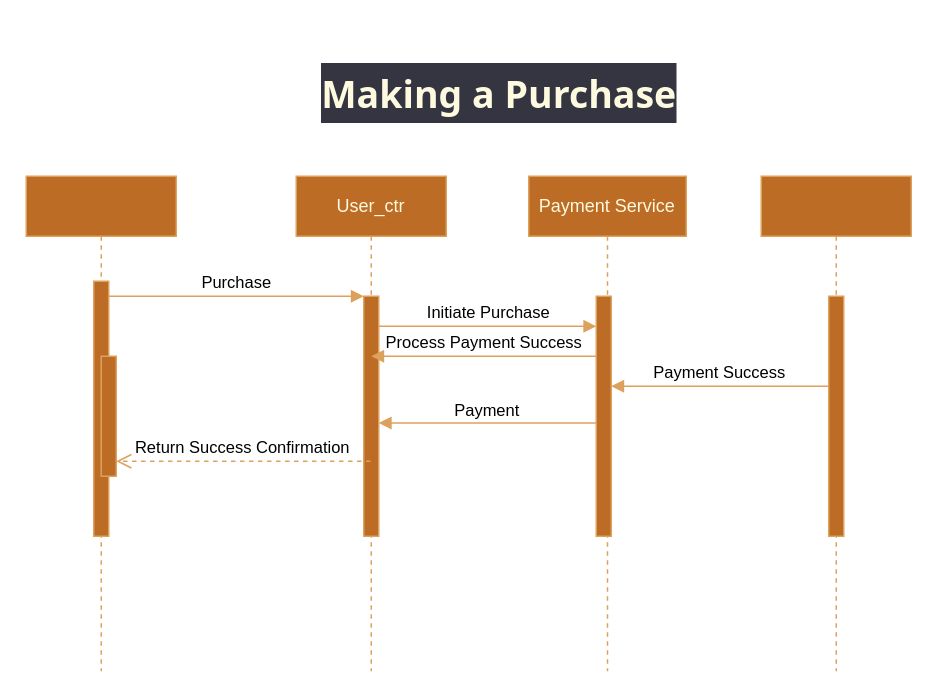
This 938x698 diagram has some shape labels left out. Here are the shapes that lost their labels. From the top down, the box of each, then its label:
(25, 175, 176, 671): Client
(760, 175, 911, 671): Customer
